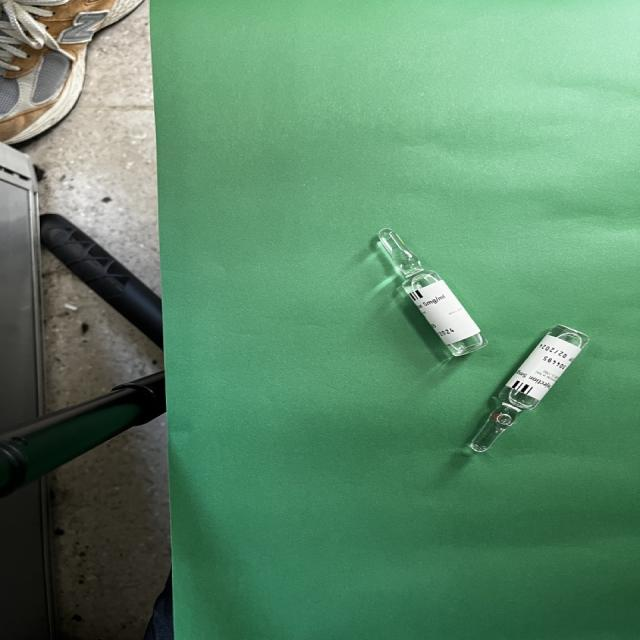Ampoules: (469, 325, 589, 452), (378, 228, 486, 356)
